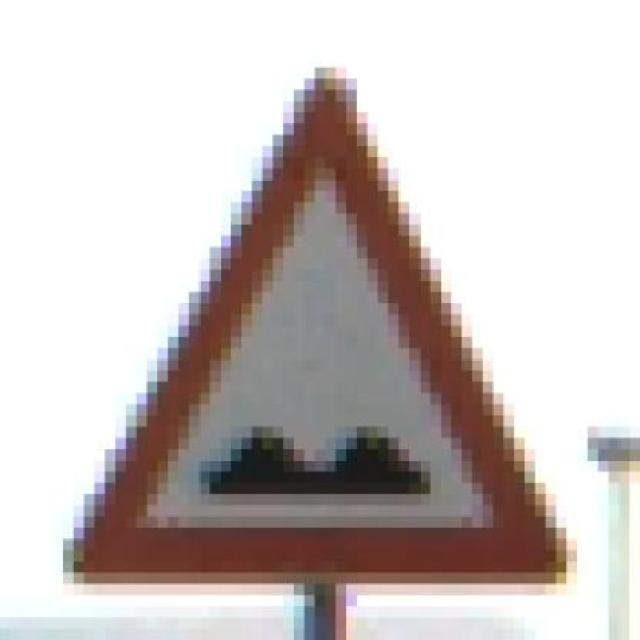Uneven Road: (52, 79, 577, 596)
